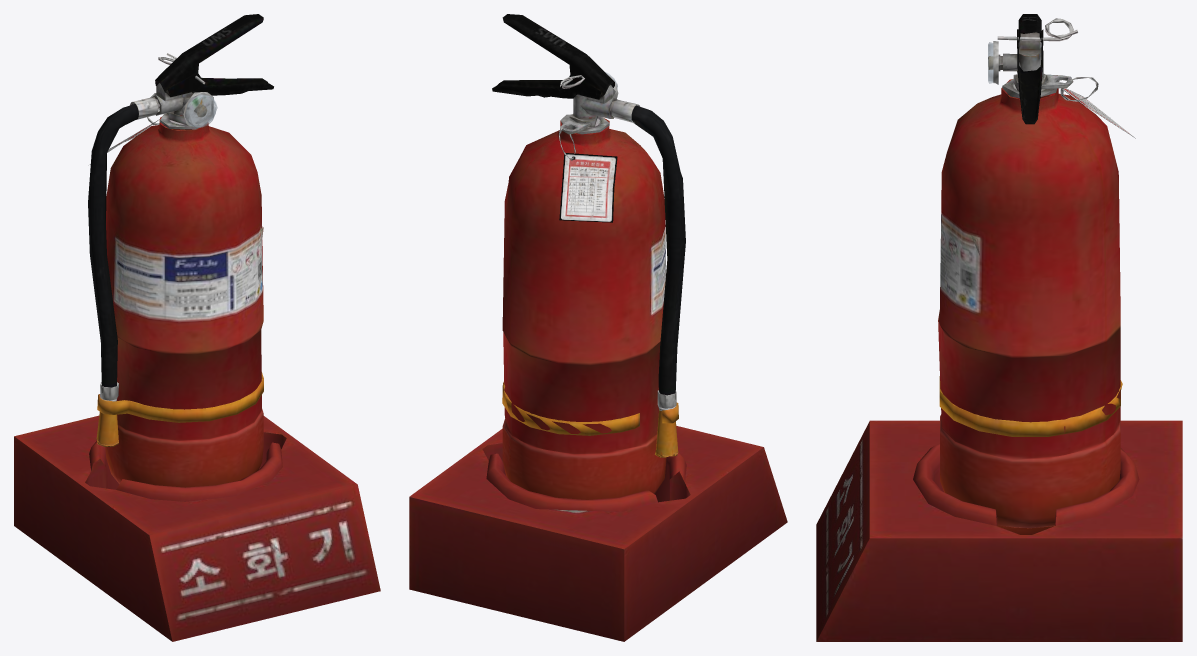
File: fire_extinguisher.glb
3 renders of one model, left to right at view 1: azimuth 30°, elevation 25°; view 2: azimuth 150°, elevation 25°; view 3: azimuth 270°, elevation 25°, orthographic. The views are drawn at different scales.
Bounding box in the file's own units: 0.279 × 0.6591 × 0.3674.
3 materials, 3 textured.
